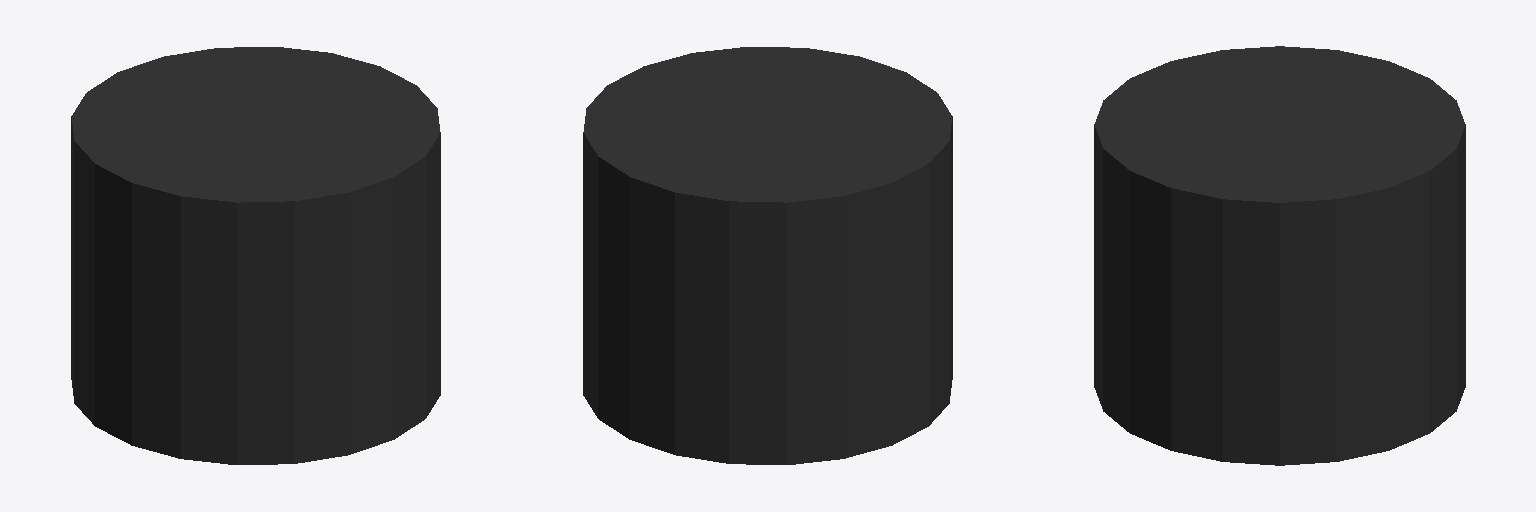
File: Room.obj
3 renders of one model, left to right at view 1: azimuth 30°, elevation 25°; view 2: azimuth 150°, elevation 25°; view 3: azimuth 270°, elevation 25°, orthographic.
Visible parts, largest first — view 1: Main_Cylinder; view 2: Main_Cylinder; view 3: Main_Cylinder.
Boxes of the visible parts, x1,y1,x2,y2 form: Main_Cylinder: [71, 47, 440, 464]; Main_Cylinder: [583, 47, 952, 464]; Main_Cylinder: [1094, 46, 1465, 465].
Size of the model in its own units: 12.8 by 10 by 12.8.